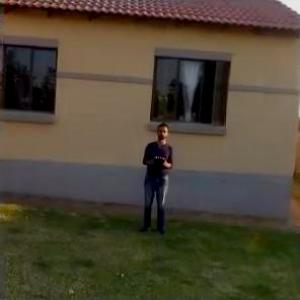follow: (135, 115, 175, 237)
